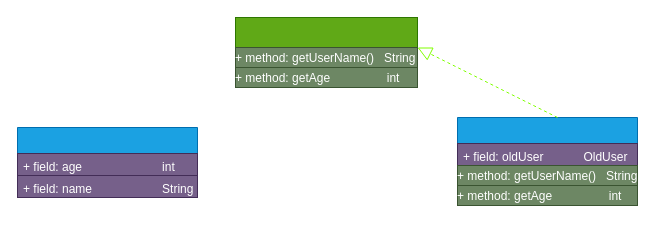
Image size: 655x234. Some labels were removed from this diagram. Here are the shapes that lost their labels. From the top down, the box of each, then its label:
(234, 16, 418, 48): «interface» NewUser
(456, 116, 638, 166): UserAdapter
(16, 126, 198, 198): OldUser
